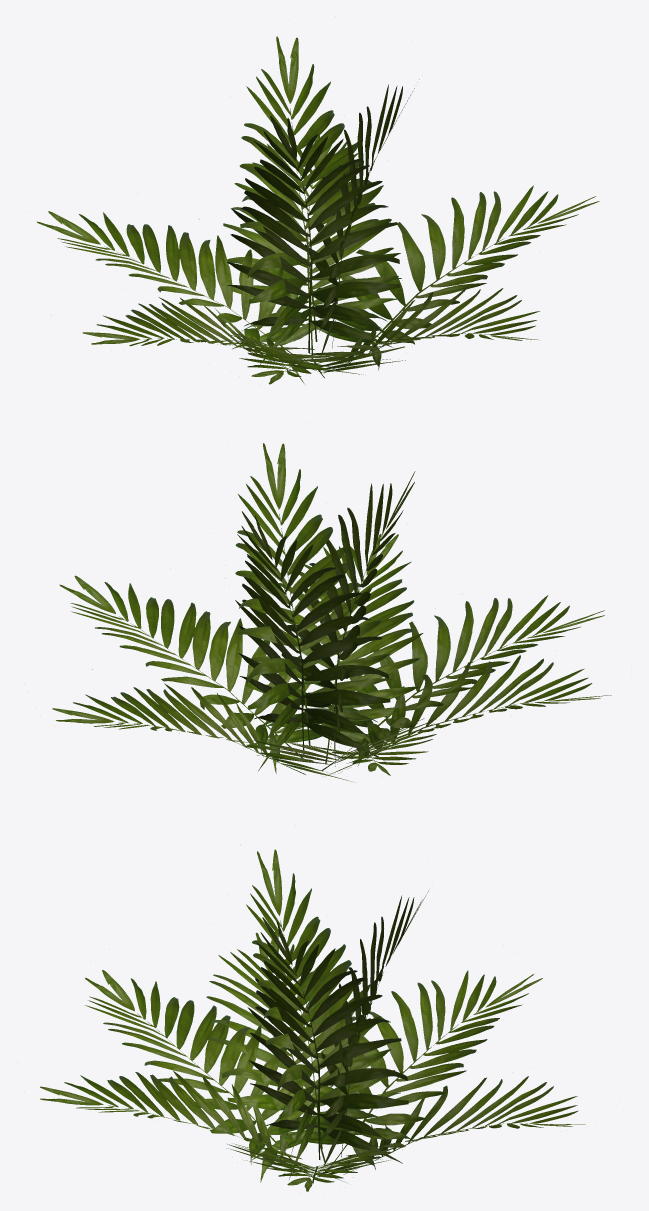
File: mini palm2.FBX
The picture shows the model from 3 angles, top to bottom: view 1: azimuth 30°, elevation 25°; view 2: azimuth 150°, elevation 25°; view 3: azimuth 270°, elevation 25°; orthographic projection.
Parts seen in each view (by area): view 1: mini palm2; view 2: mini palm2; view 3: mini palm2.
Part boxes in pixels (<box>): mini palm2: <box>37,36,599,384</box>; mini palm2: <box>52,443,611,781</box>; mini palm2: <box>40,849,585,1191</box>.
Size of the model in its own units: 8.7 by 4.49 by 8.34.
